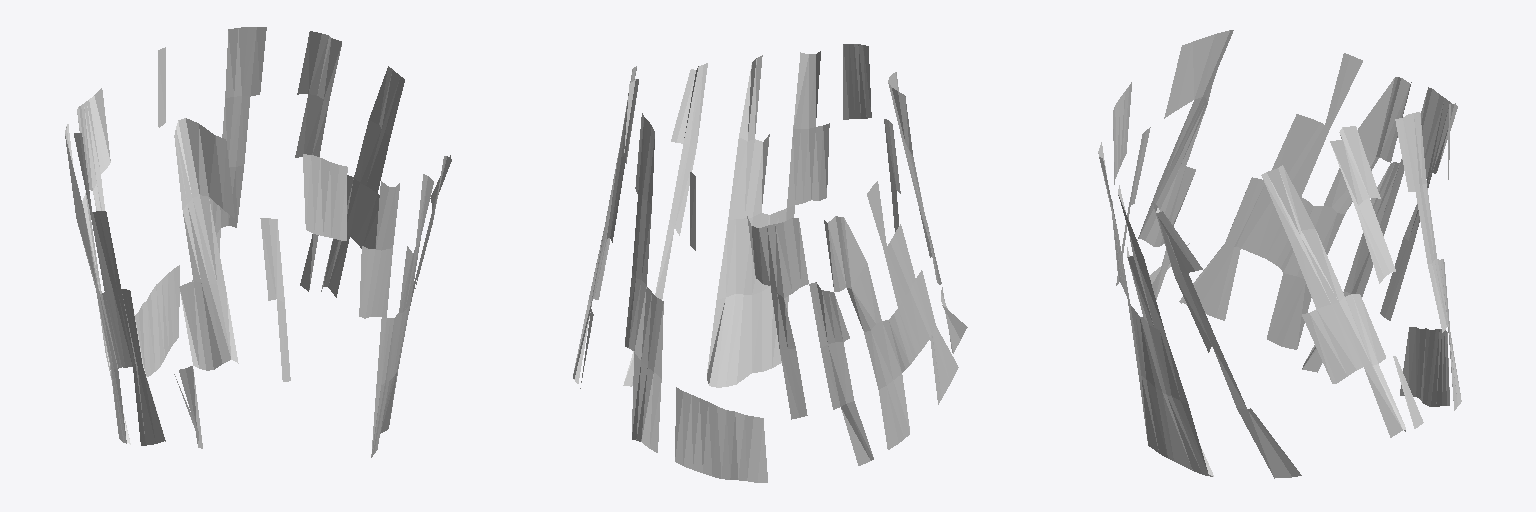
The model's file is GlitchyCylinder.obj.
3 renders of one model, left to right at view 1: azimuth 30°, elevation 25°; view 2: azimuth 150°, elevation 25°; view 3: azimuth 270°, elevation 25°, orthographic.
Visible parts, largest first — view 1: Glitch1; view 2: Glitch1; view 3: Glitch1.
Part boxes in pixels (bbox=[...]): Glitch1: bbox=[65, 27, 451, 457]; Glitch1: bbox=[573, 44, 967, 482]; Glitch1: bbox=[1098, 30, 1461, 478].
Bounding box in the file's own units: 4.99 × 6 × 5.51.